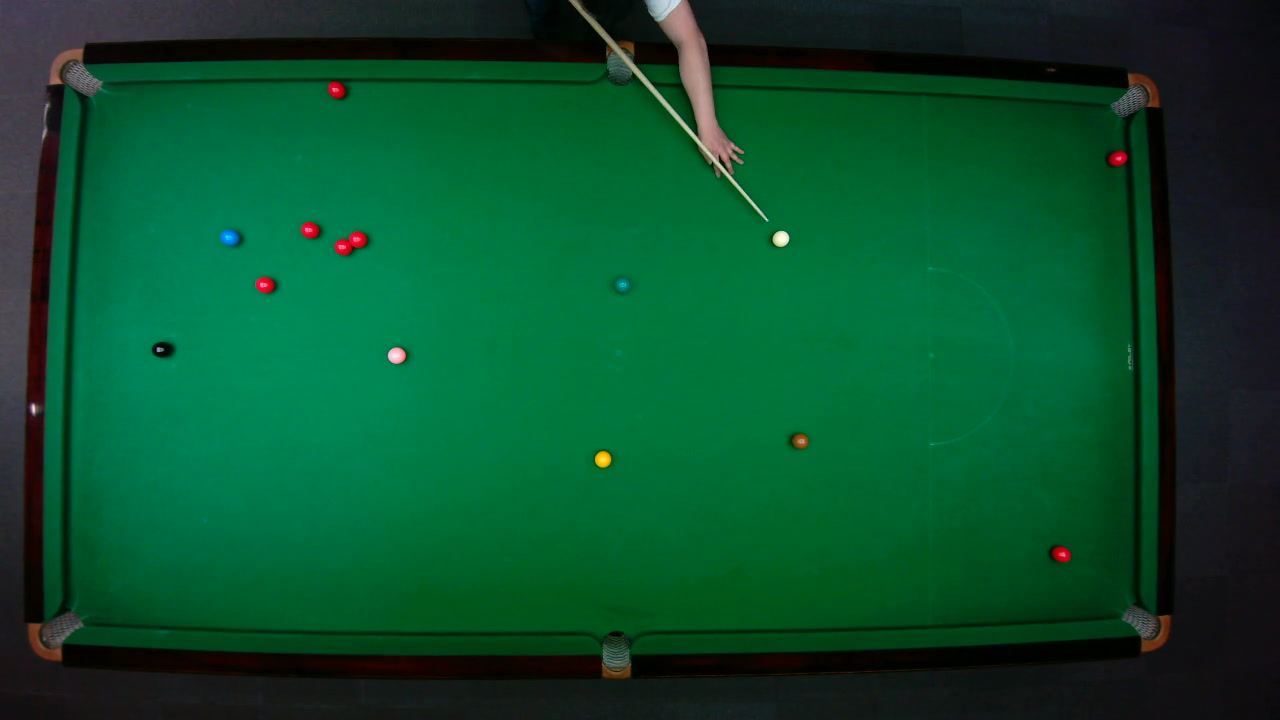bag: (26, 608, 84, 661), (46, 47, 103, 97), (1118, 603, 1171, 651), (1108, 72, 1160, 118), (601, 629, 630, 679), (604, 41, 632, 84)
black: (150, 340, 172, 358)
blue: (218, 228, 239, 246)
brown: (790, 432, 809, 449)
cue: (571, 0, 769, 221)
green: (613, 276, 630, 293)
pink: (386, 345, 406, 364)
red: (1049, 544, 1072, 563), (332, 236, 354, 255), (347, 229, 368, 248), (1106, 149, 1129, 166), (326, 80, 346, 99), (254, 275, 275, 293), (299, 220, 320, 238)
white: (770, 229, 790, 248)
yellow: (593, 449, 612, 468)
zone: (926, 265, 1013, 445)
